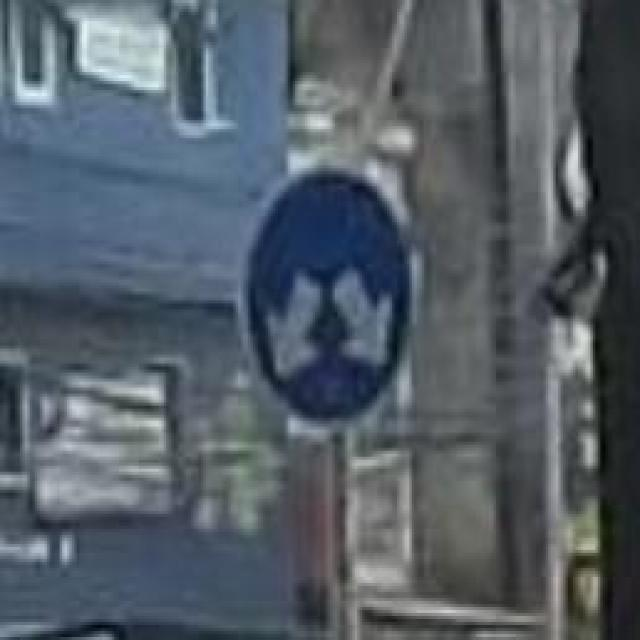traffic sign: (241, 171, 424, 430)
